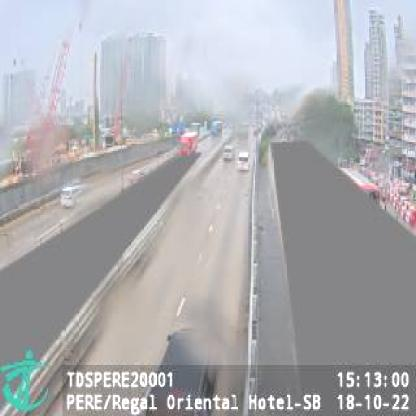Car: (61, 181, 83, 209), (238, 150, 252, 172), (223, 143, 237, 162)
Truck: (177, 130, 200, 158)
